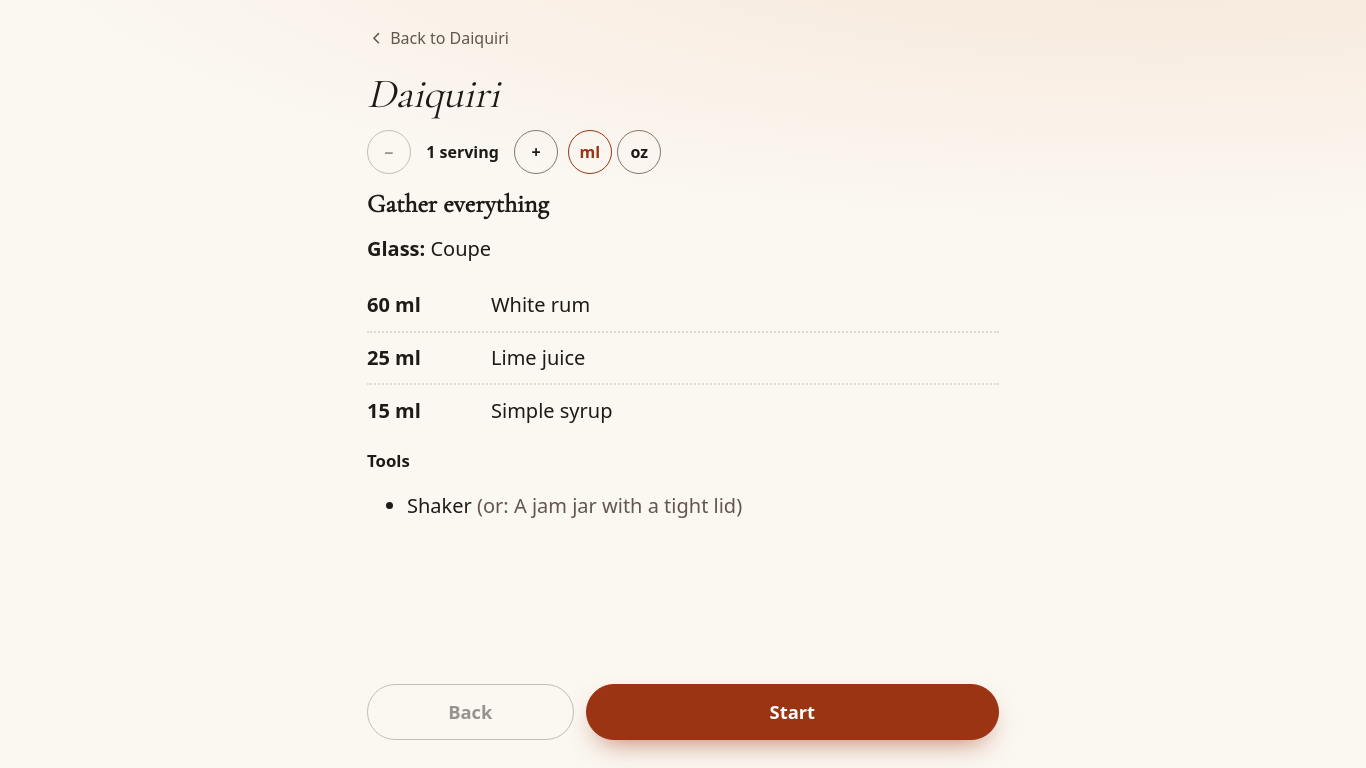
Test: changing servings scales measures
Expected: the heading "Daiquiri" is shown, [367,69,499,119]
Click the button named "more servings".
click(536, 152)  # box [514,130,558,174]
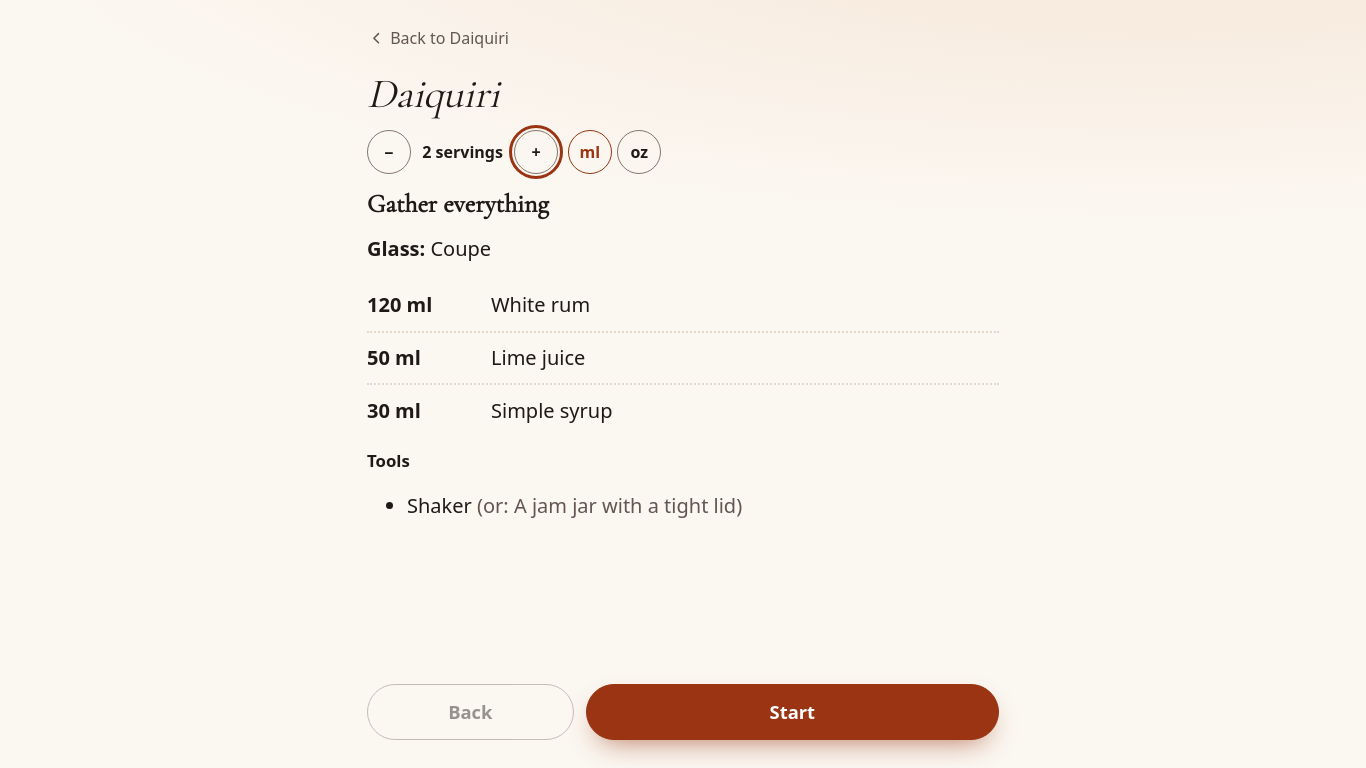
Click the button named "more servings".
click(536, 152)  # box [514,130,558,174]
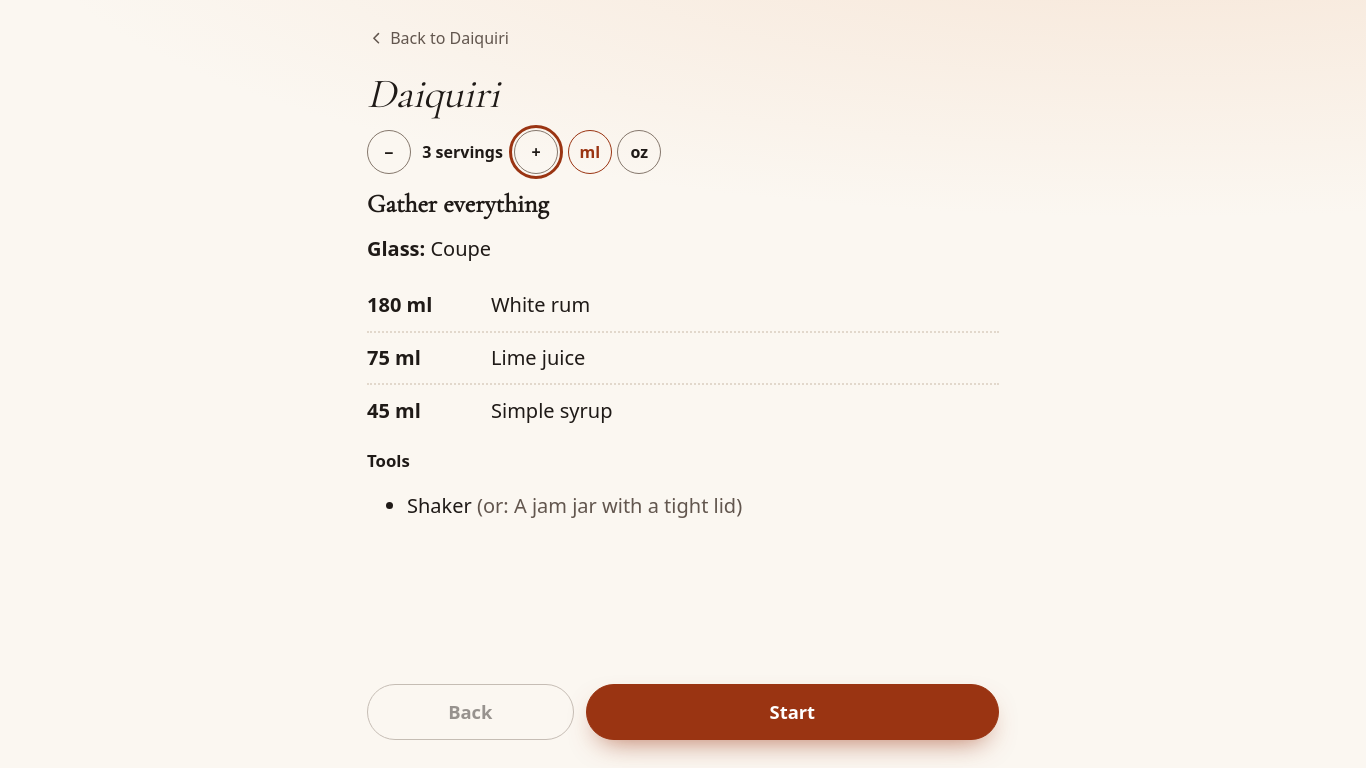
Click the button named "more servings".
click(536, 152)  # box [514,130,558,174]
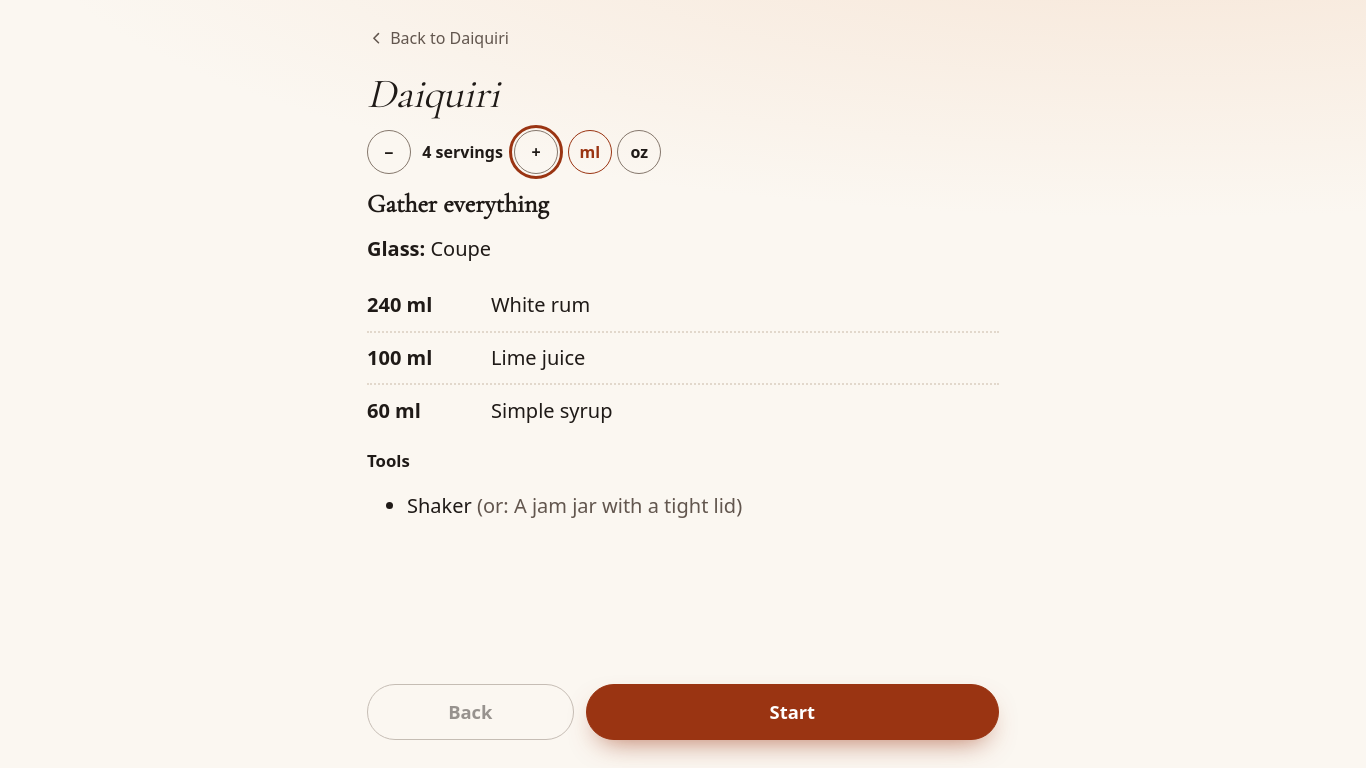
Result: the text "4 servings" is shown at [417,140,509,164]
